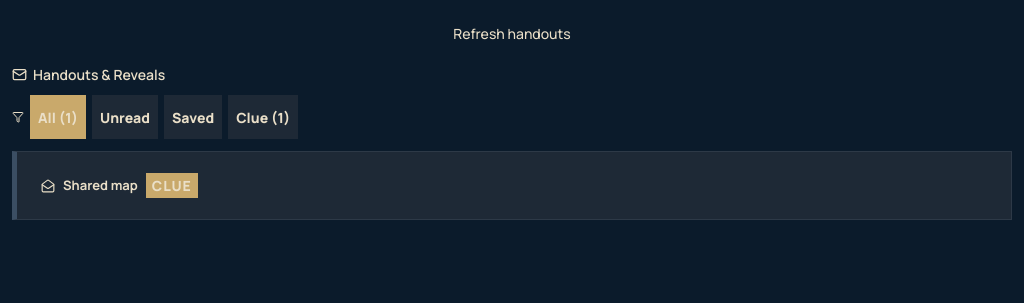
Scenario: handouts stay scoped and remain visible after a failed refresh
Expected: the text "Shared map" is shown, [63,176,138,195]
Click the button "Refresh handouts". click: (512, 34)
box: [12,12,1012,56]
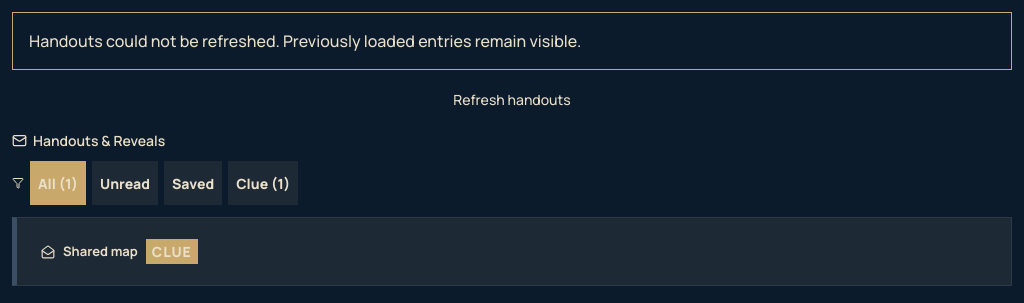
Expected: the text "Shared map" is shown, [63,242,138,261]
Expected: the message shows "could not be refreshed", [29,30,581,52]
